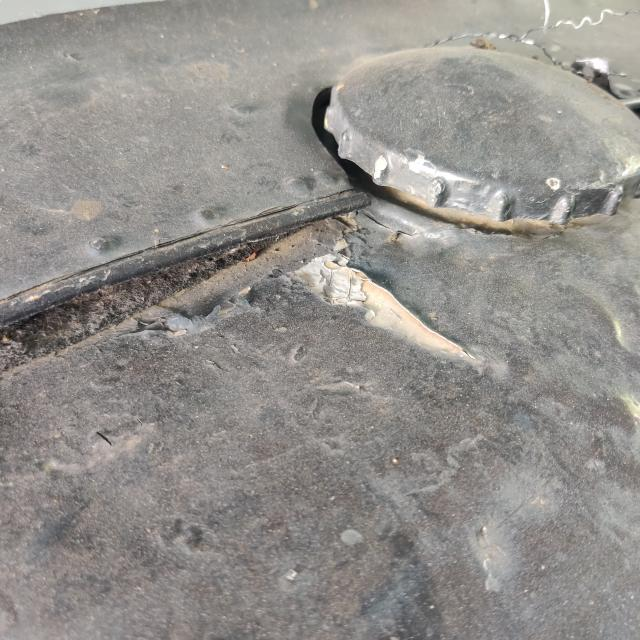paint-off: (285, 242, 504, 397)
